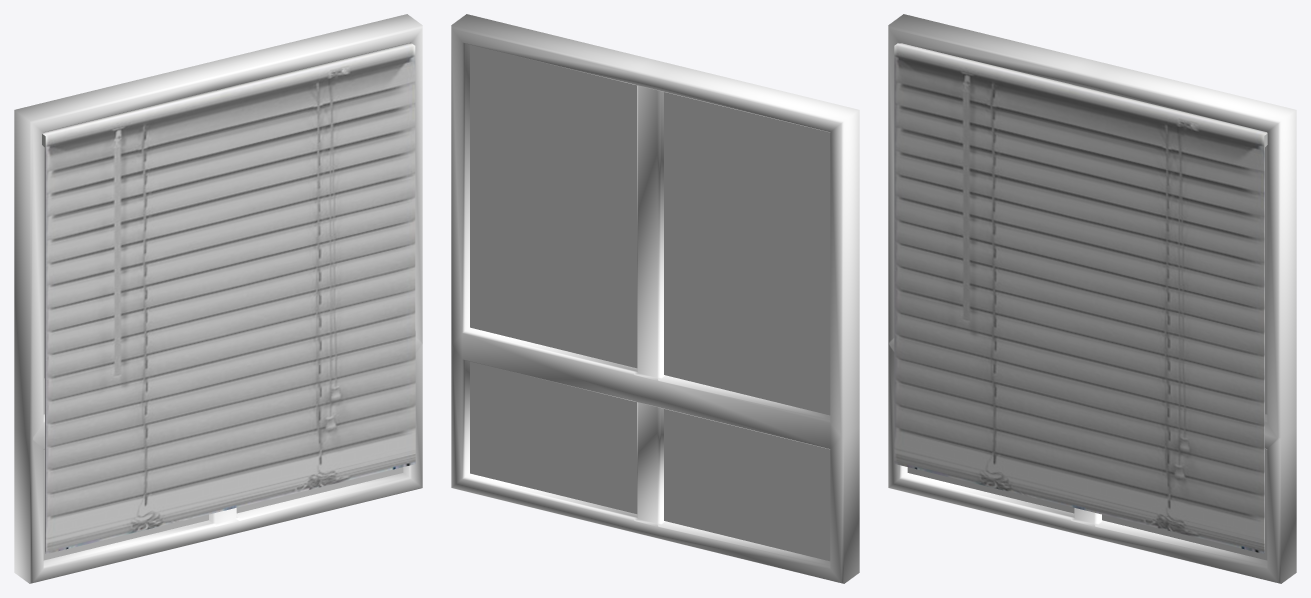
The model's file is Window.fbx.
3 views of the same model, side by side, from view 1: azimuth 30°, elevation 25°; view 2: azimuth 150°, elevation 25°; view 3: azimuth 330°, elevation 25° (orthographic).
Visible parts, largest first — view 1: blinds01, Window_frame01, Glass_pane01, Glass_pane002; view 2: Glass_pane002, Window_frame01, Glass_pane01; view 3: blinds01, Window_frame01, Glass_pane01, Glass_pane002.
Boxes of the visible parts, bbox=[...] form: blinds01: bbox=[42, 43, 415, 554]; Window_frame01: bbox=[14, 14, 422, 583]; Glass_pane01: bbox=[43, 449, 403, 560]; Glass_pane002: bbox=[43, 147, 44, 414]; Glass_pane002: bbox=[470, 44, 830, 415]; Window_frame01: bbox=[451, 14, 859, 583]; Glass_pane01: bbox=[470, 361, 830, 561]; blinds01: bbox=[894, 43, 1267, 553]; Window_frame01: bbox=[888, 14, 1296, 583]; Glass_pane01: bbox=[907, 449, 1267, 560]; Glass_pane002: bbox=[1265, 145, 1267, 414].
Size of the model in its own units: 32 by 36 by 3.07.
Materials: 2 (1 with a texture image).
